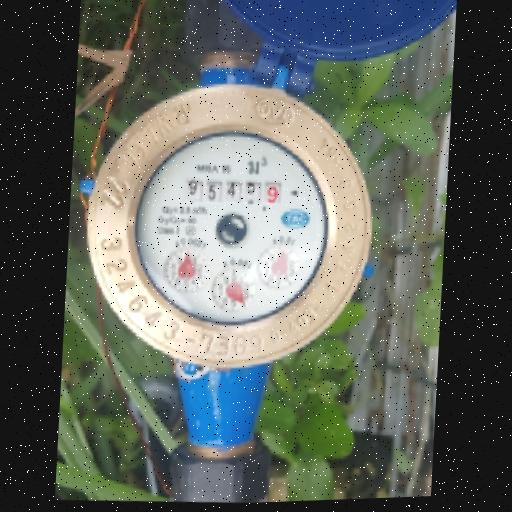4: (227, 180, 242, 203)
5: (207, 180, 222, 201), (247, 182, 261, 203)
9: (188, 179, 202, 202), (266, 183, 280, 205)
border_water_meter_number: (182, 172, 287, 213)
